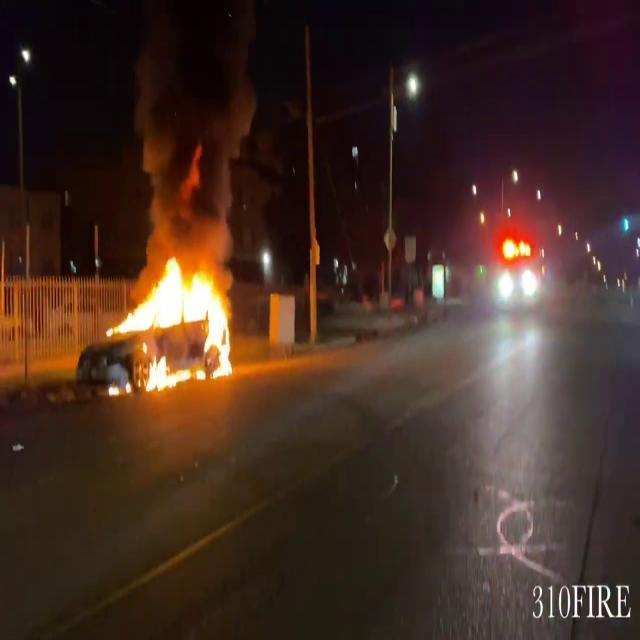Fire: (113, 248, 237, 392)
Smoke: (128, 2, 260, 264)
